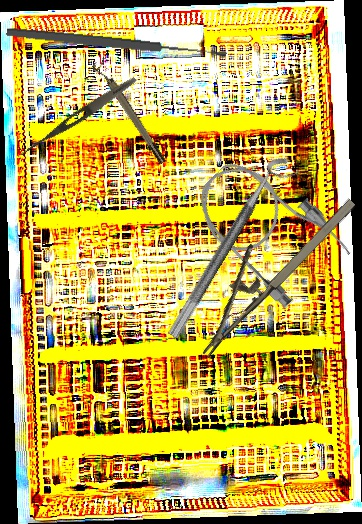Cannula: (180, 140, 358, 316)
Dressing Forceps: (18, 73, 139, 161)
Fixation Ring: (166, 152, 302, 349), (90, 56, 168, 169)
Needle Holder: (171, 172, 361, 359)
Surgical Spoon: (5, 25, 228, 62)
